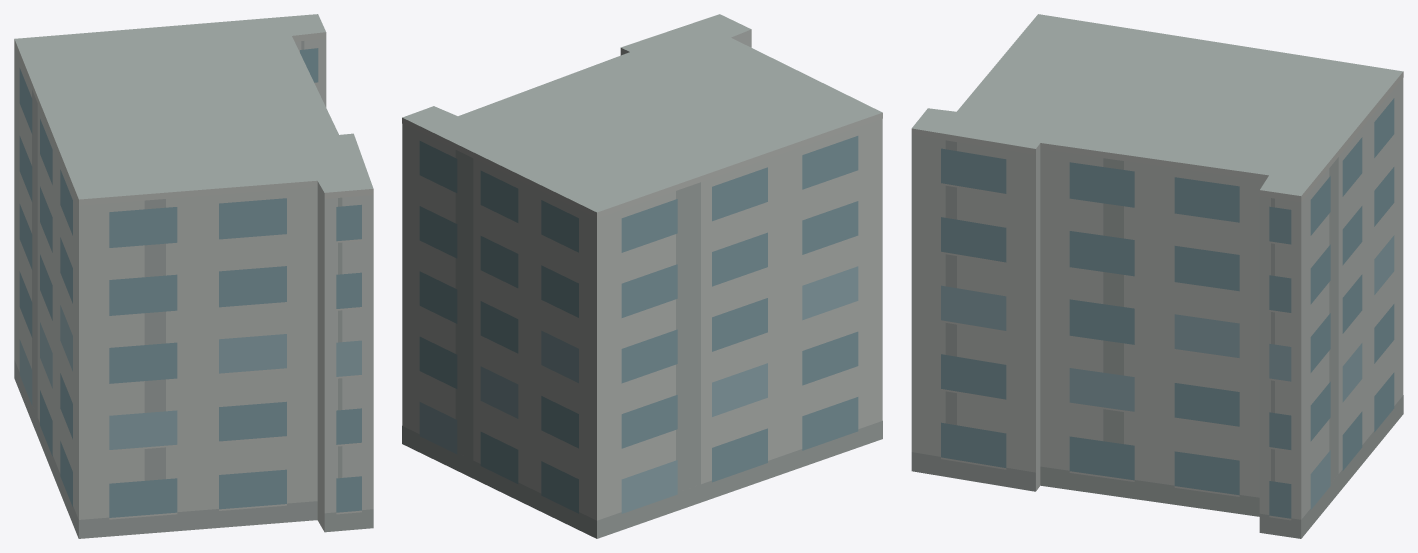
File: survey-upis-32893533.glb
3 views of the same model, side by side, from view 1: azimuth 30°, elevation 25°; view 2: azimuth 150°, elevation 25°; view 3: azimuth 270°, elevation 25° (orthographic). The views are drawn at different scales.
Parts seen in each view (by area): view 1: survey-upis-32893533.tmp; view 2: survey-upis-32893533.tmp; view 3: survey-upis-32893533.tmp.
Part boxes in pixels (x1,y1,x2,y2): survey-upis-32893533.tmp: (14,14,373,538); survey-upis-32893533.tmp: (402,14,882,538); survey-upis-32893533.tmp: (911,14,1403,538).
Size of the model in its own units: 15.11 by 13.25 by 17.24.
